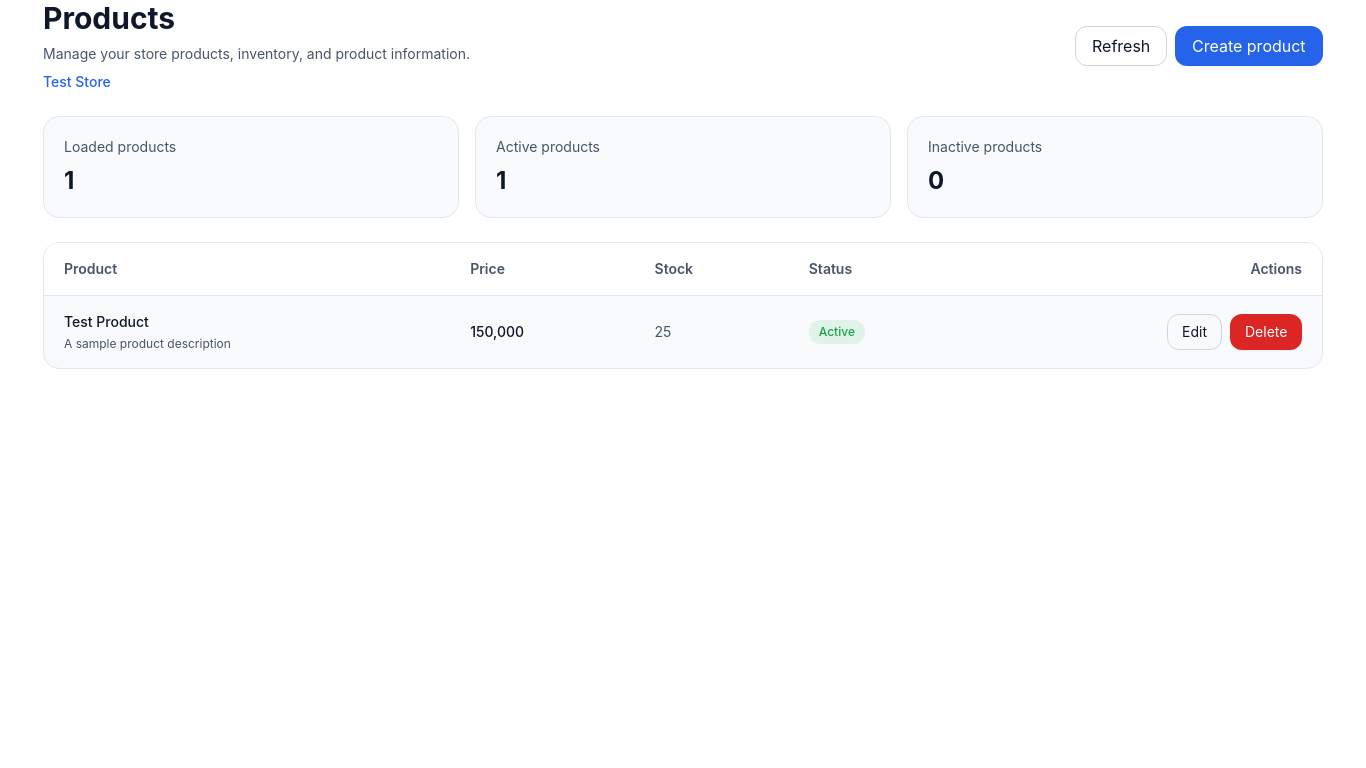
Scenario: ProductsPage › should update an existing product
Click the button "Edit" at (1194, 332), box left=1167, top=314, right=1222, bottom=350
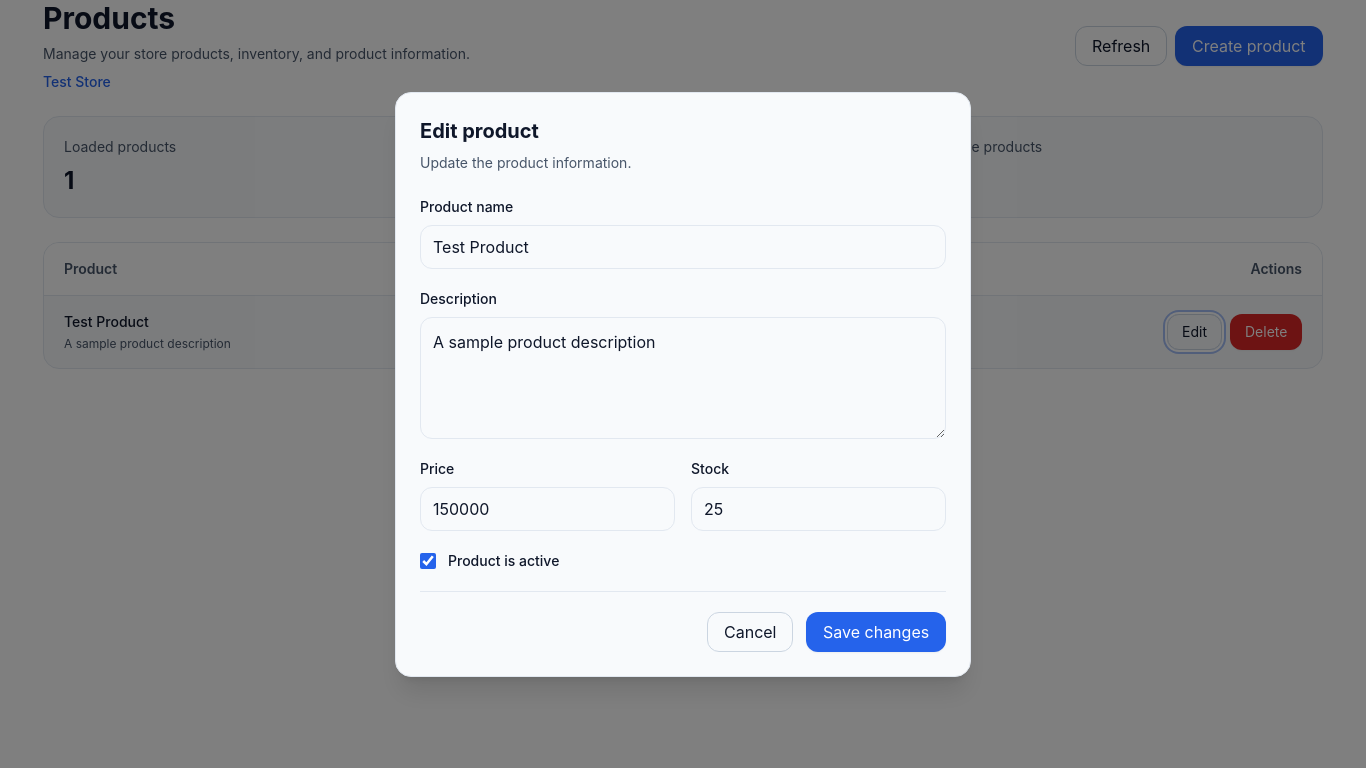
Expected: the dialog "Edit product" is shown, left=395, top=92, right=971, bottom=676
Replace the text in the field labelled "Product name" with "Updated Product" at (683, 246), box left=420, top=224, right=946, bottom=268
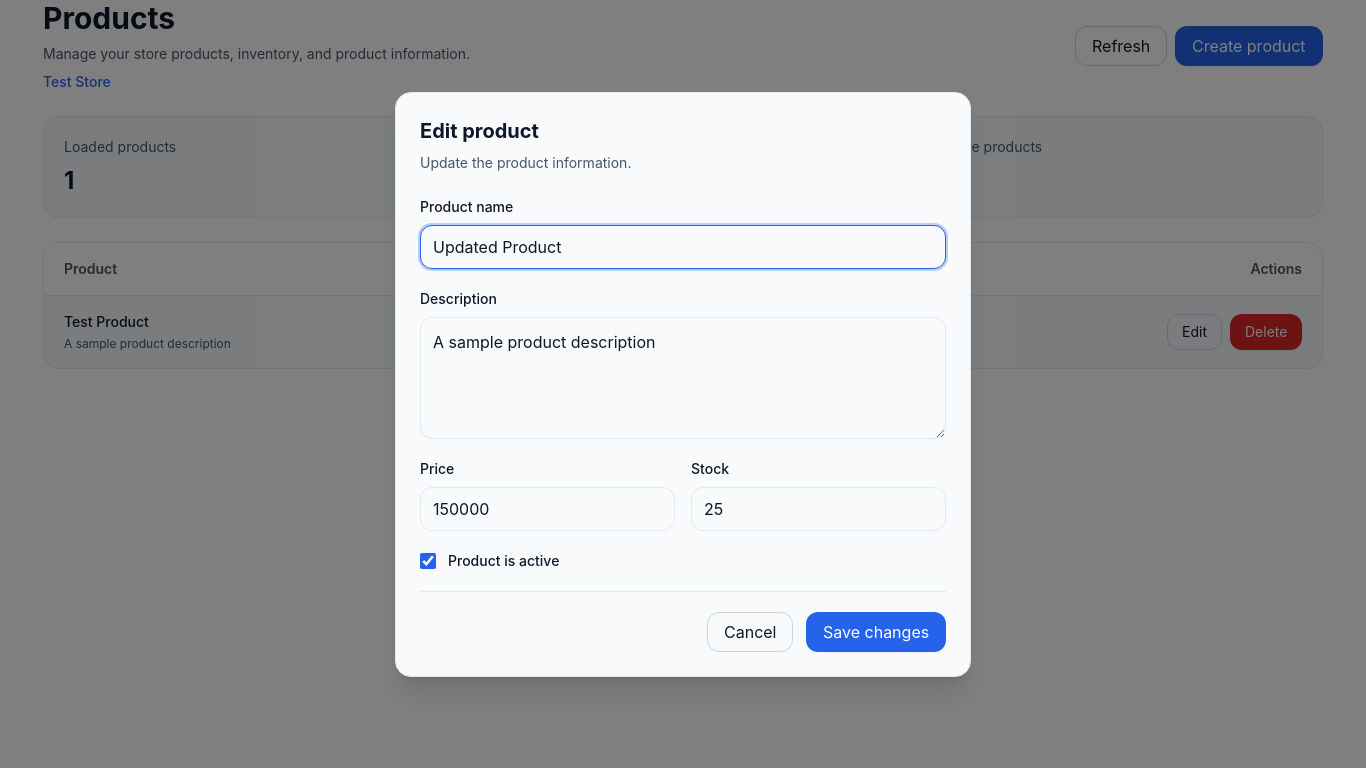
Click the button "Save changes" at (876, 632), box left=806, top=612, right=946, bottom=652
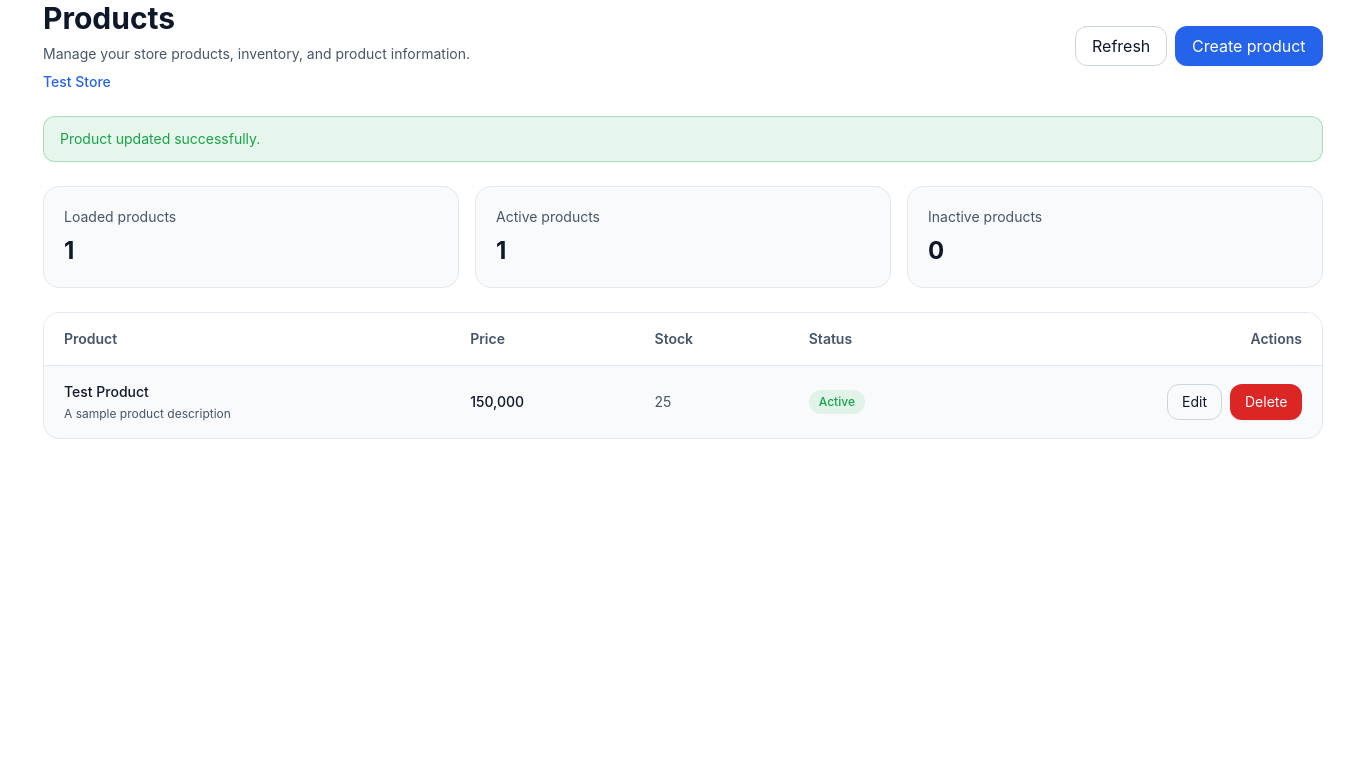
Expected: the text "Product updated successfully." is shown, left=43, top=116, right=1323, bottom=162
